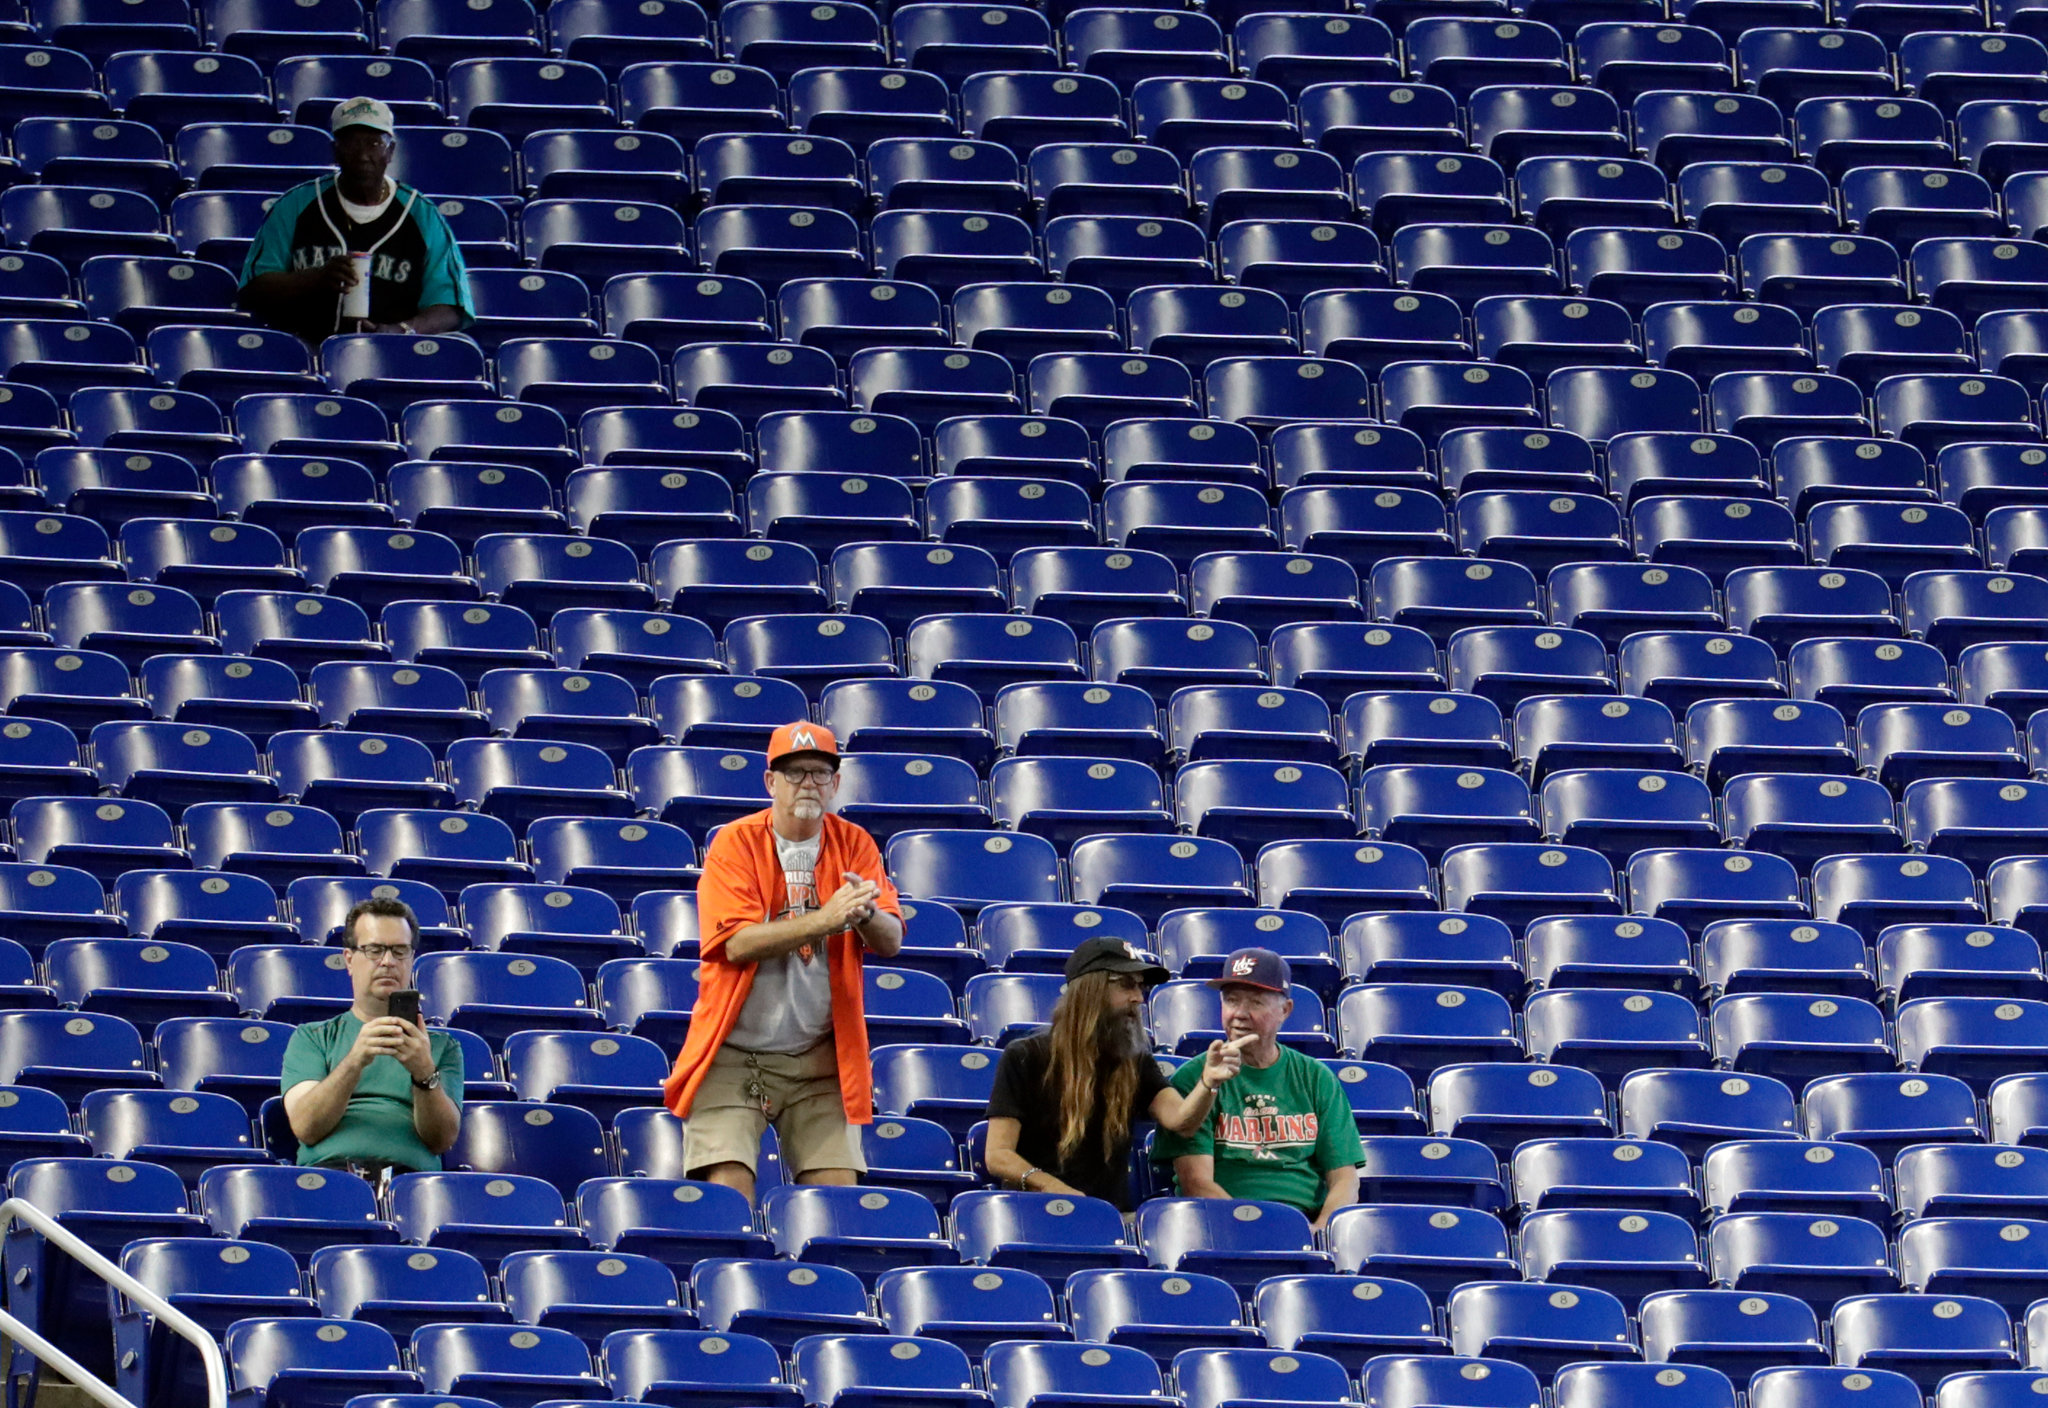Person: (658, 719, 905, 1188), (237, 96, 475, 336), (282, 896, 465, 1168), (983, 937, 1177, 1192), (1178, 948, 1366, 1202)
